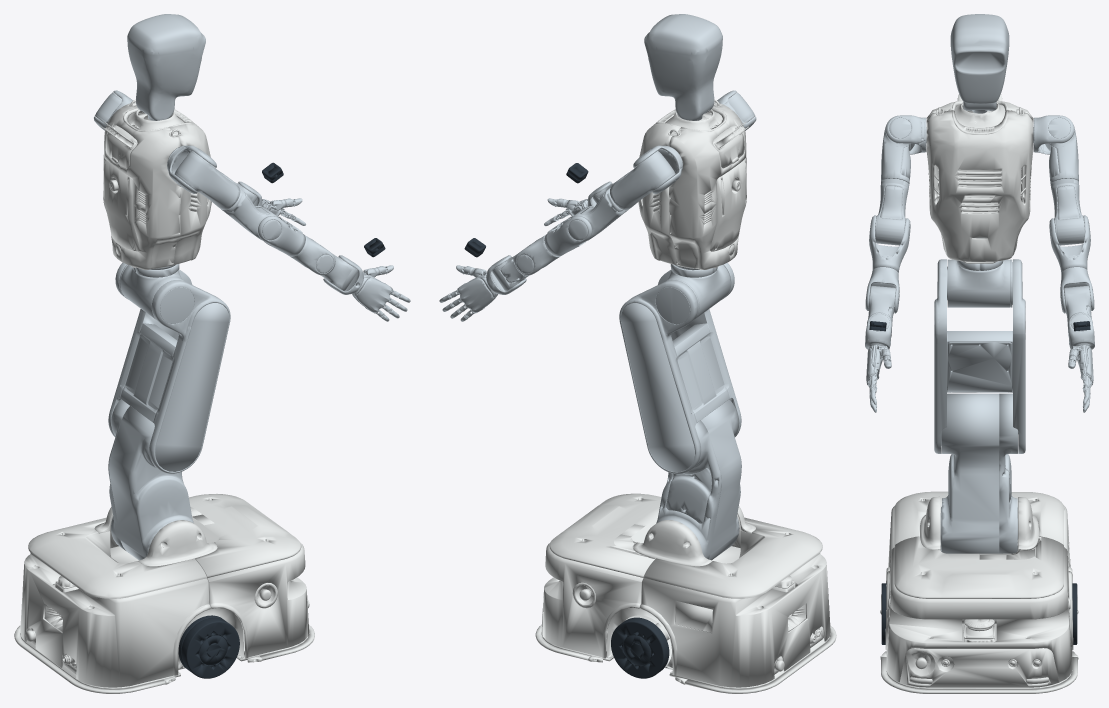
File: atom_w.glb
3 views of the same model, side by side, from view 1: azimuth 30°, elevation 25°; view 2: azimuth 150°, elevation 25°; view 3: azimuth 270°, elevation 25° (orthographic).
Parts seen in each view (by area): view 1: atom_w / chassis visual, atom_w / thigh_pitch_Link visual, atom_w / torso_yaw_Link visual, atom_w / calf_pitch_link visual, atom_w / head_pitch_link visual, atom_w / right_wheel_link visual, atom_w / right_shoulder_roll_Link visual, atom_w / waist_pitch_Link visual, atom_w / right_elbow_pitch_Link visual, atom_w / right_shoulder_yaw_Link visual, atom_w / right_elbow_roll_Link visual, atom_w / right_hand_base_link visual (+2 smaller); view 2: atom_w / chassis visual, atom_w / thigh_pitch_Link visual, atom_w / torso_yaw_Link visual, atom_w / calf_pitch_link visual, atom_w / head_pitch_link visual, atom_w / left_wheel_link visual, atom_w / left_shoulder_roll_Link visual, atom_w / waist_pitch_Link visual, atom_w / left_elbow_pitch_Link visual, atom_w / left_shoulder_yaw_Link visual, atom_w / left_elbow_roll_Link visual, atom_w / left_hand_base_link visual (+2 smaller); view 3: atom_w / chassis visual, atom_w / torso_yaw_Link visual, atom_w / calf_pitch_link visual, atom_w / thigh_pitch_Link visual, atom_w / head_pitch_link visual, atom_w / waist_pitch_Link visual, atom_w / right_shoulder_yaw_Link visual, atom_w / left_shoulder_yaw_Link visual, atom_w / left_shoulder_pitch_Link visual, atom_w / right_shoulder_pitch_Link visual, atom_w / left_shoulder_roll_Link visual, atom_w / right_shoulder_roll_Link visual (+10 smaller).
Boxes of the visible parts, left/top/right/bottom form: atom_w / chassis visual: left=14, top=494, right=314, bottom=693; atom_w / thigh_pitch_Link visual: left=108, top=262, right=230, bottom=473; atom_w / torso_yaw_Link visual: left=101, top=99, right=211, bottom=269; atom_w / calf_pitch_link visual: left=108, top=399, right=193, bottom=560; atom_w / head_pitch_link visual: left=127, top=14, right=205, bottom=120; atom_w / right_wheel_link visual: left=178, top=615, right=239, bottom=678; atom_w / right_shoulder_roll_Link visual: left=174, top=150, right=240, bottom=210; atom_w / waist_pitch_Link visual: left=119, top=264, right=183, bottom=319; atom_w / right_elbow_pitch_Link visual: left=255, top=206, right=305, bottom=256; atom_w / right_shoulder_yaw_Link visual: left=221, top=188, right=278, bottom=240; atom_w / right_elbow_roll_Link visual: left=290, top=235, right=335, bottom=275; atom_w / right_hand_base_link visual: left=352, top=273, right=393, bottom=313; atom_w / chassis visual: left=535, top=493, right=836, bottom=693; atom_w / thigh_pitch_Link visual: left=619, top=262, right=741, bottom=474; atom_w / torso_yaw_Link visual: left=637, top=99, right=748, bottom=269; atom_w / calf_pitch_link visual: left=656, top=399, right=741, bottom=560; atom_w / head_pitch_link visual: left=644, top=14, right=722, bottom=120; atom_w / left_wheel_link visual: left=611, top=617, right=669, bottom=678; atom_w / left_shoulder_roll_Link visual: left=610, top=151, right=675, bottom=210; atom_w / waist_pitch_Link visual: left=666, top=264, right=730, bottom=319; atom_w / left_elbow_pitch_Link visual: left=544, top=206, right=594, bottom=256; atom_w / left_shoulder_yaw_Link visual: left=571, top=188, right=627, bottom=240; atom_w / left_elbow_roll_Link visual: left=514, top=235, right=559, bottom=275; atom_w / left_hand_base_link visual: left=456, top=273, right=497, bottom=313; atom_w / chassis visual: left=880, top=491, right=1078, bottom=693; atom_w / torso_yaw_Link visual: left=926, top=94, right=1033, bottom=263; atom_w / calf_pitch_link visual: left=940, top=393, right=1018, bottom=553; atom_w / thigh_pitch_Link visual: left=934, top=259, right=1025, bottom=453; atom_w / head_pitch_link visual: left=950, top=14, right=1009, bottom=110; atom_w / waist_pitch_Link visual: left=947, top=237, right=1012, bottom=307; atom_w / right_shoulder_yaw_Link visual: left=875, top=178, right=909, bottom=245; atom_w / left_shoulder_yaw_Link visual: left=1050, top=178, right=1084, bottom=245; atom_w / left_shoulder_pitch_Link visual: left=1033, top=115, right=1074, bottom=154; atom_w / right_shoulder_pitch_Link visual: left=885, top=115, right=926, bottom=154; atom_w / left_shoulder_roll_Link visual: left=1045, top=127, right=1078, bottom=183; atom_w / right_shoulder_roll_Link visual: left=881, top=127, right=914, bottom=183.
Size of the model in its own units: 0.934 by 1.77 by 0.5947.
